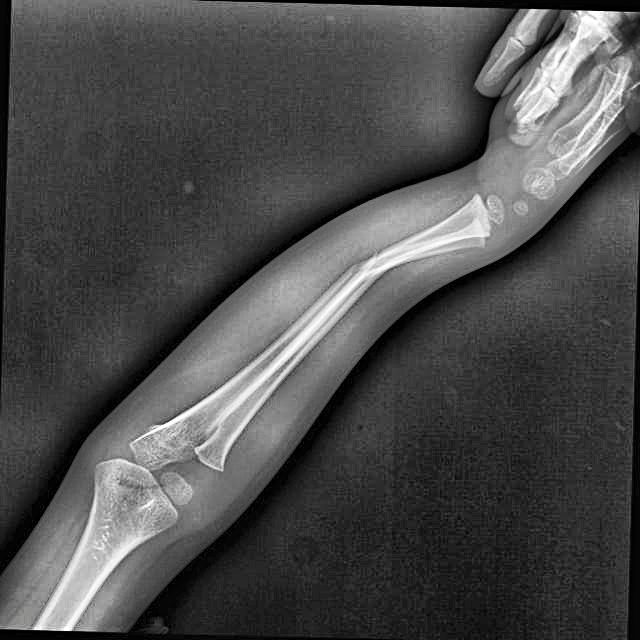Spiral: (330, 241, 391, 321)
